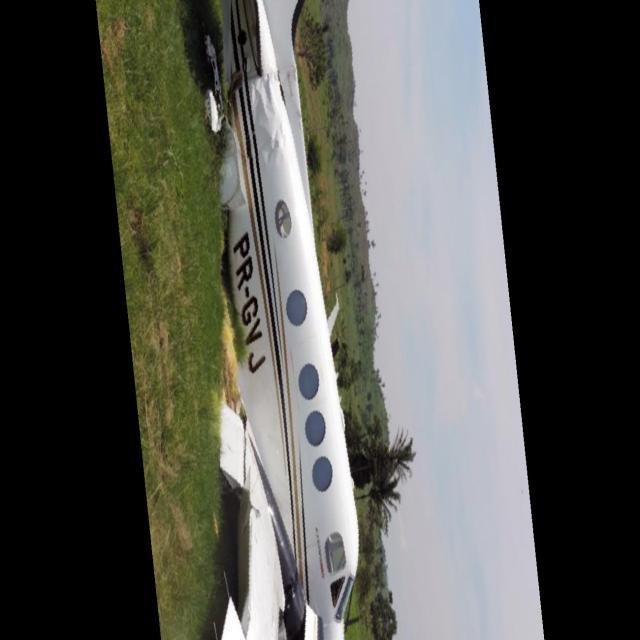dent: (247, 78, 290, 167)
